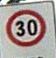limite 30: (4, 8, 46, 46)
